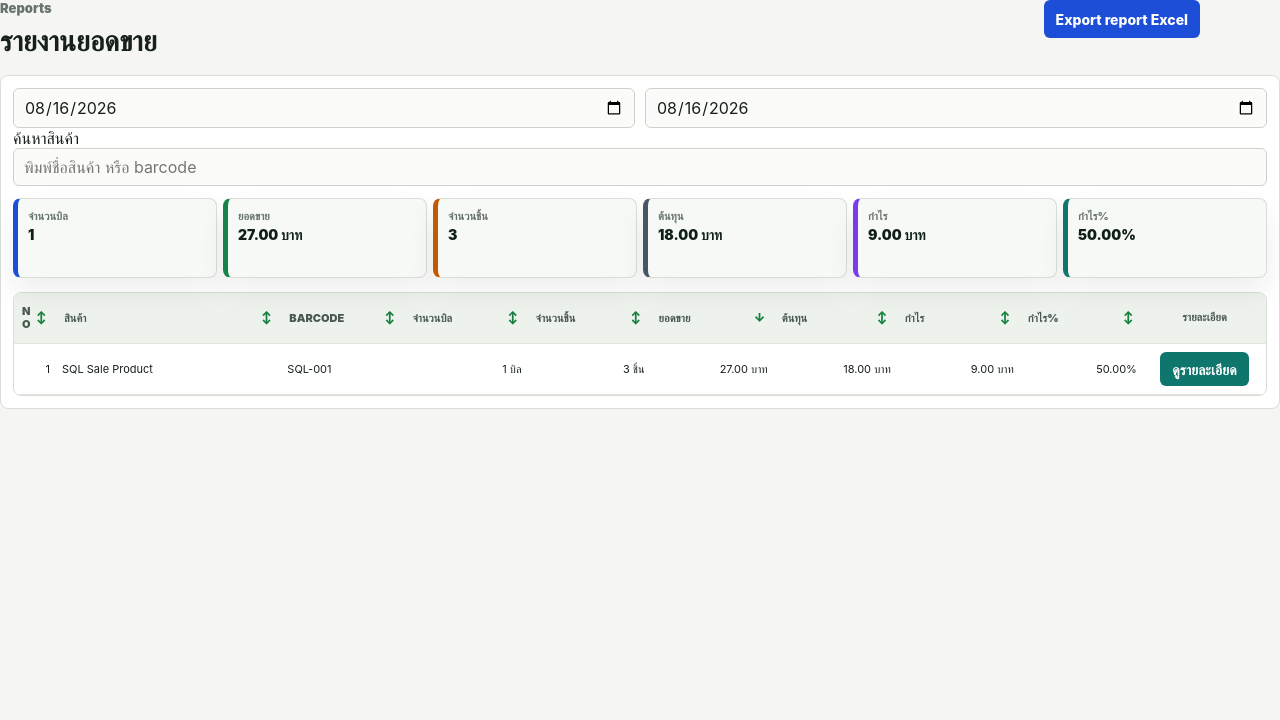
Test: backend connected report pages › shows a loading state then error message when the bills API fails
What coordinates should you click on to do the following:
click the button "ดูรายละเอียด"
I would click on:
 (1204, 369)
Its box is [1160,352,1248,386].
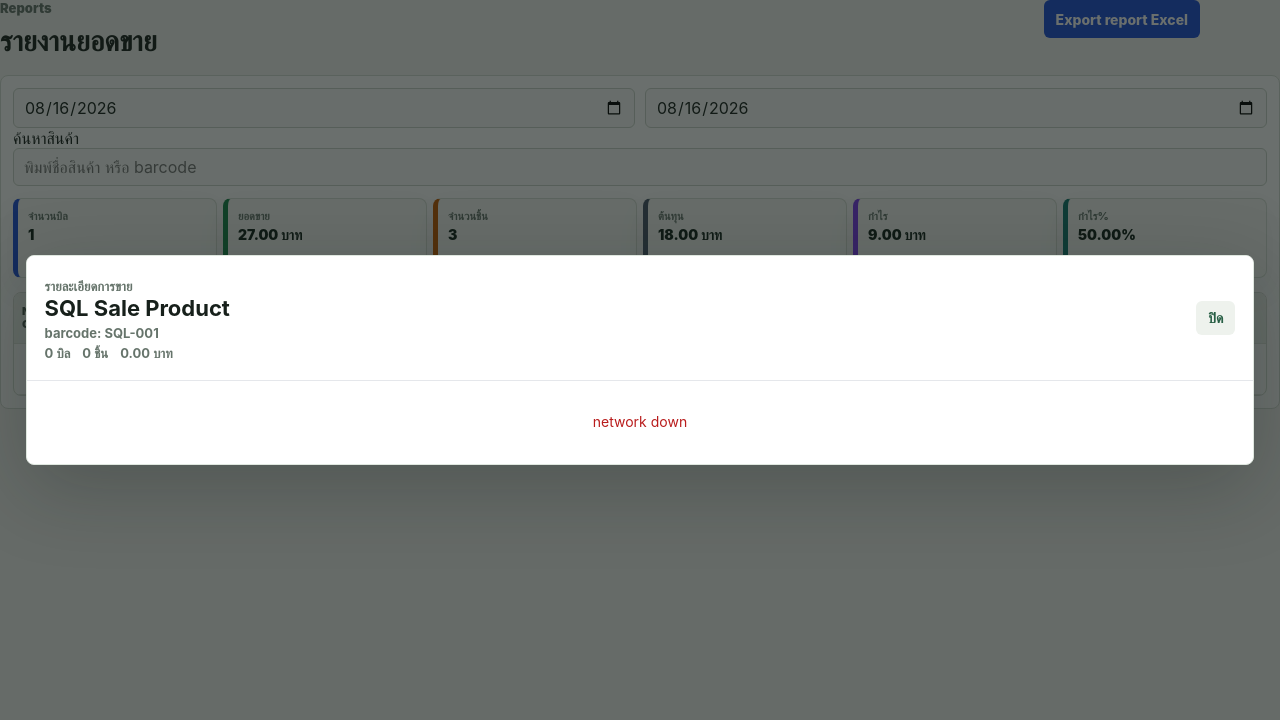
Check: the text "network down" is shown, box [593,413,687,430]
